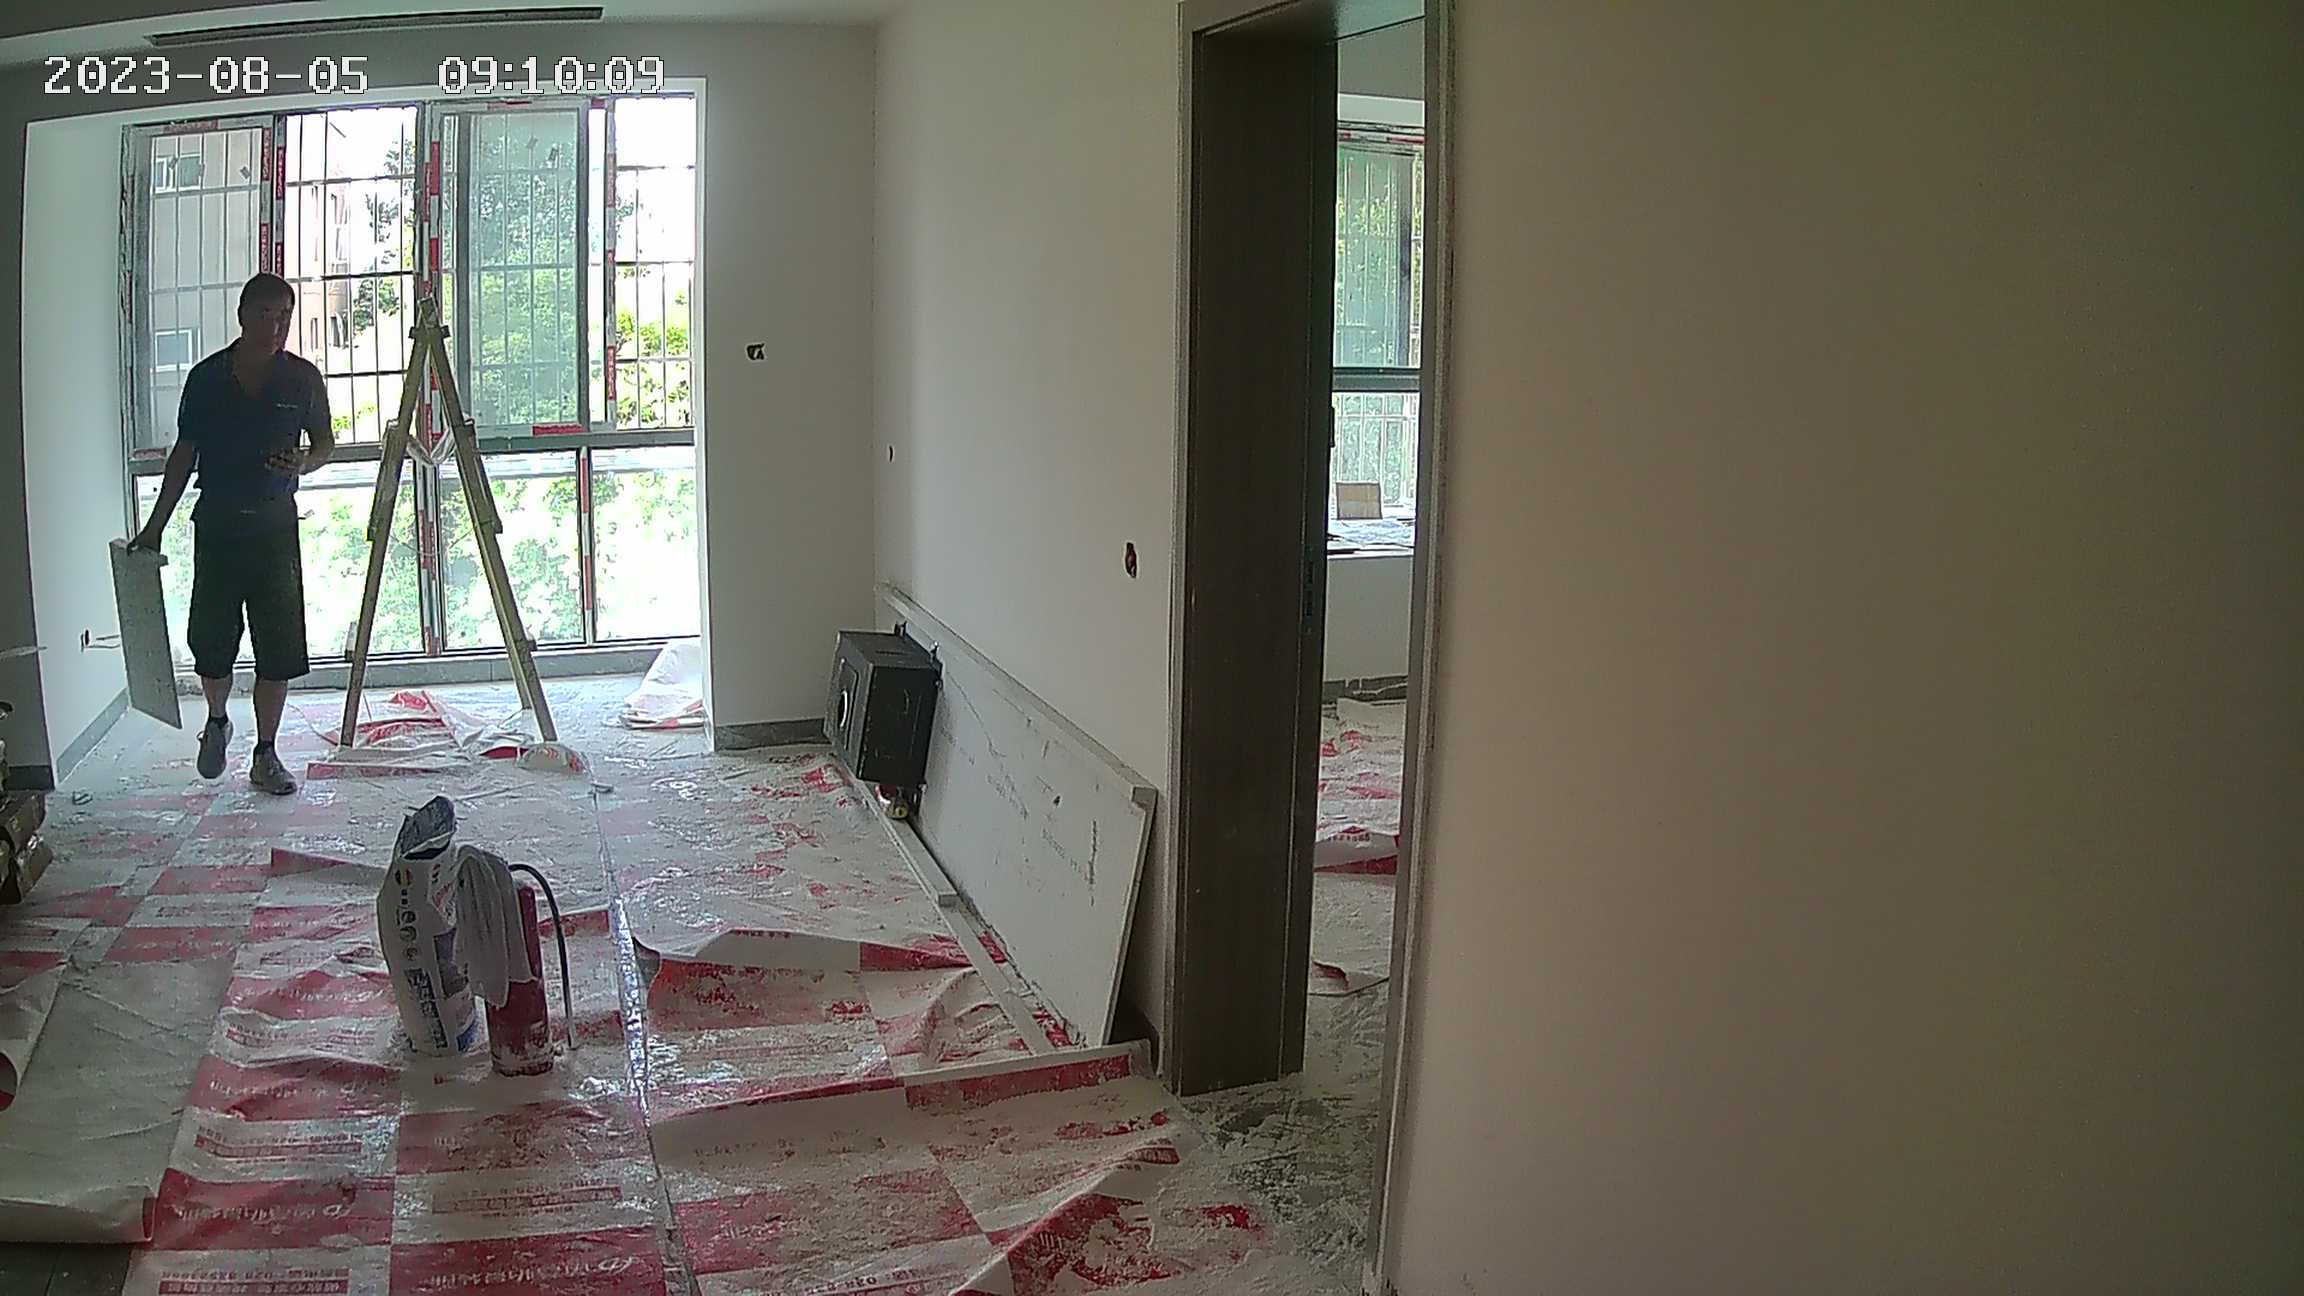people: (148, 277, 338, 797)
window: (121, 122, 695, 657)
